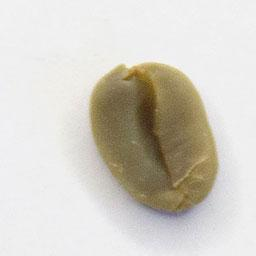premium: (87, 59, 223, 218)
